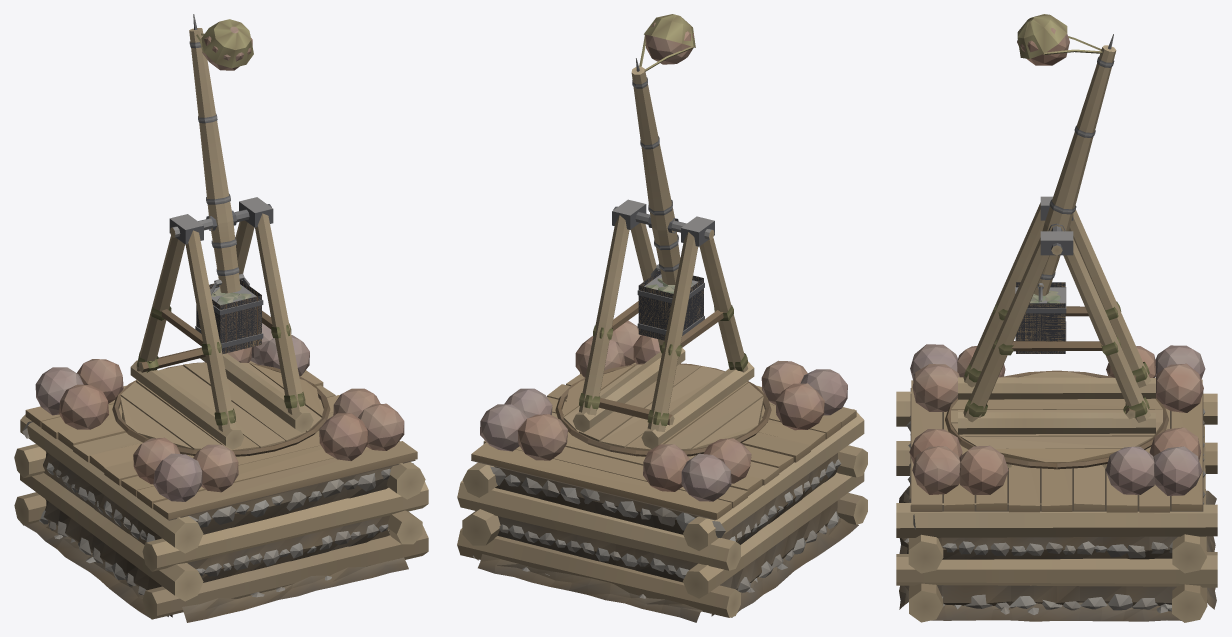
File: trebuchet_a.glb
3 renders of one model, left to right at view 1: azimuth 30°, elevation 25°; view 2: azimuth 150°, elevation 25°; view 3: azimuth 270°, elevation 25°, orthographic. The views are drawn at different scales.
Parts seen in each view (by area): view 1: Base, Turn, Arm, Store3, Store2, Pile, Weight; view 2: Base, Turn, Store3, Arm, Store2, Weight, Pile, Stone; view 3: Base, Turn, Store3, Arm, Pile, Store2, Weight, Stone.
Part boxes in pixels (x1,y1,x2,y2): Base: (14, 361, 428, 622); Turn: (112, 197, 330, 456); Arm: (189, 14, 253, 293); Store3: (35, 323, 309, 429); Store2: (133, 437, 238, 501); Pile: (319, 388, 404, 460); Weight: (195, 277, 263, 354); Base: (457, 362, 867, 622); Turn: (555, 199, 771, 456); Store3: (480, 388, 751, 501); Arm: (631, 14, 695, 284); Store2: (761, 360, 847, 430); Weight: (637, 268, 704, 340); Pile: (575, 320, 660, 377); Stone: (645, 22, 693, 64); Base: (896, 379, 1217, 622); Turn: (945, 196, 1168, 469); Store3: (1105, 345, 1205, 495); Arm: (1017, 14, 1116, 295); Pile: (909, 429, 1008, 494); Store2: (910, 344, 1005, 411); Weight: (1015, 282, 1066, 353); Stone: (1017, 28, 1069, 65).
Bounding box in the file's own units: 1.95 × 3.6 × 1.95.
